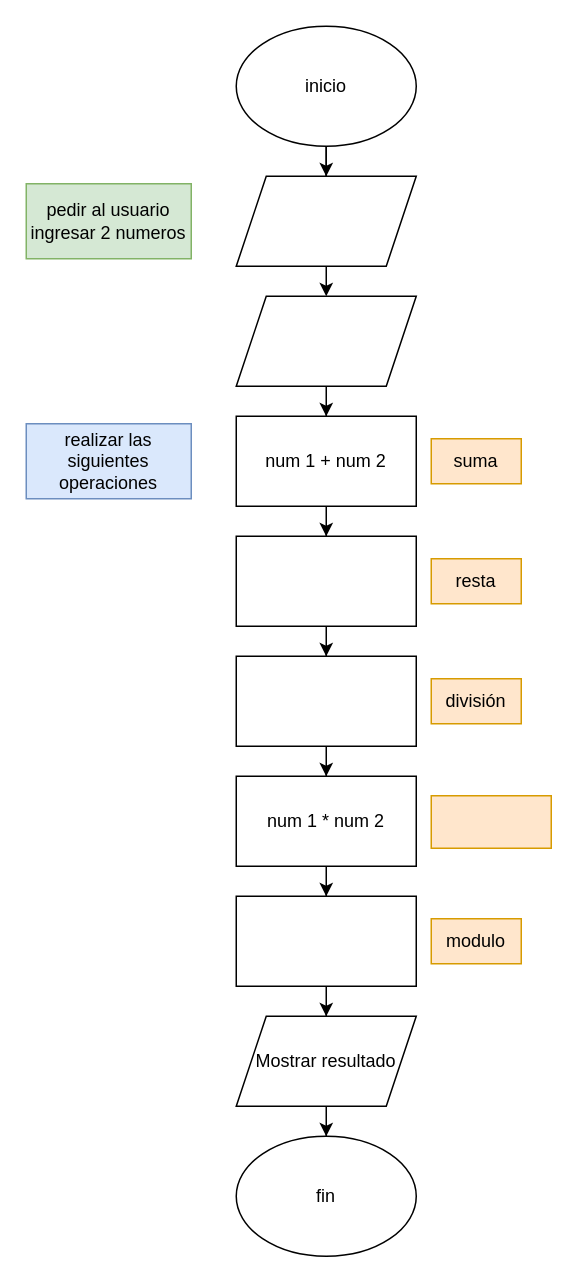
Some shapes in this 578 by 1283 pixel diagram are drawn without their labels. Here are the shapes that lost their labels. From the top down, the centre of each, then its label:
At pixel 325 220: "Numero 1".
At pixel 325 340: "Numero 2".
At pixel 325 580: "num 1 - num 2".
At pixel 325 700: "num 1 / num 2".
At pixel 490 821: "multiplicación".
At pixel 325 940: "num 1 % num 2".
